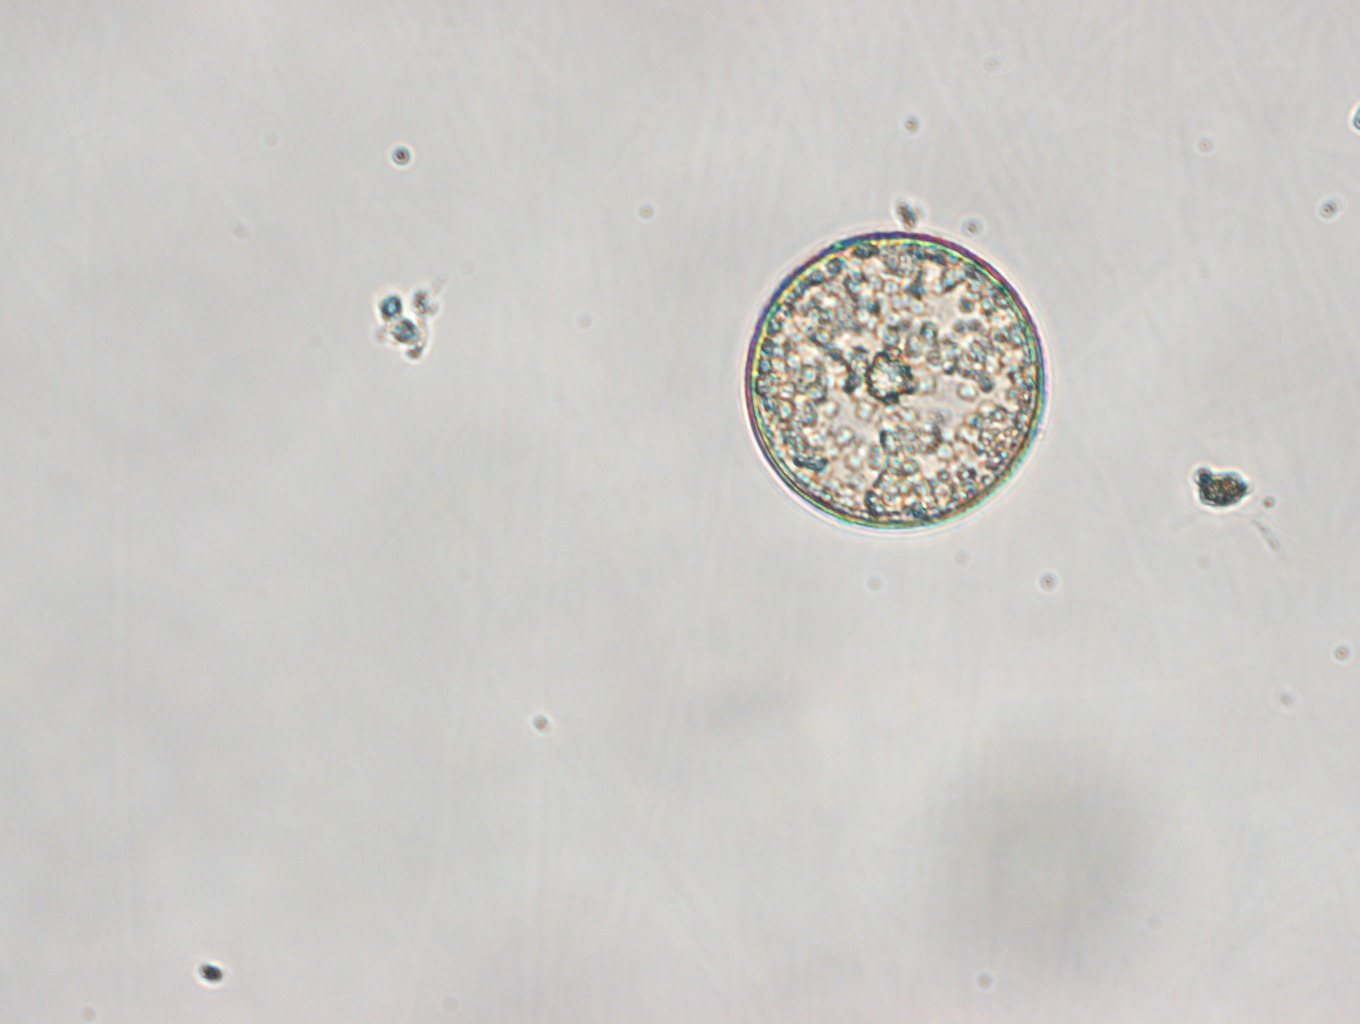coscinodiscus: (743, 229, 1047, 532)
